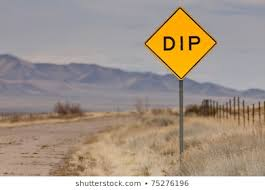dip: (145, 6, 220, 79)
